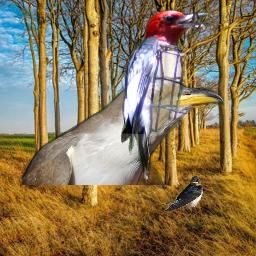Cuckoo: (22, 77, 224, 185)
Swallow: (160, 176, 203, 211)
Woodpecker: (121, 8, 213, 188)
